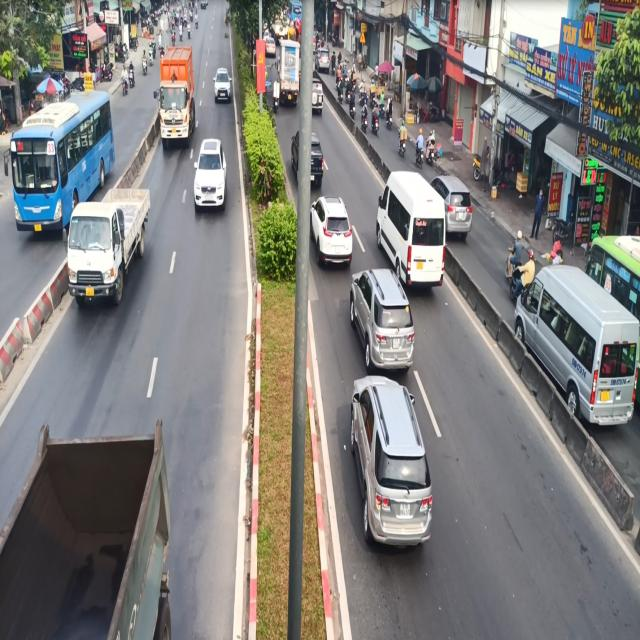bus: (10, 97, 118, 246)
car: (348, 366, 430, 558), (374, 167, 451, 290), (343, 263, 417, 370), (192, 134, 235, 225), (213, 58, 236, 117)
